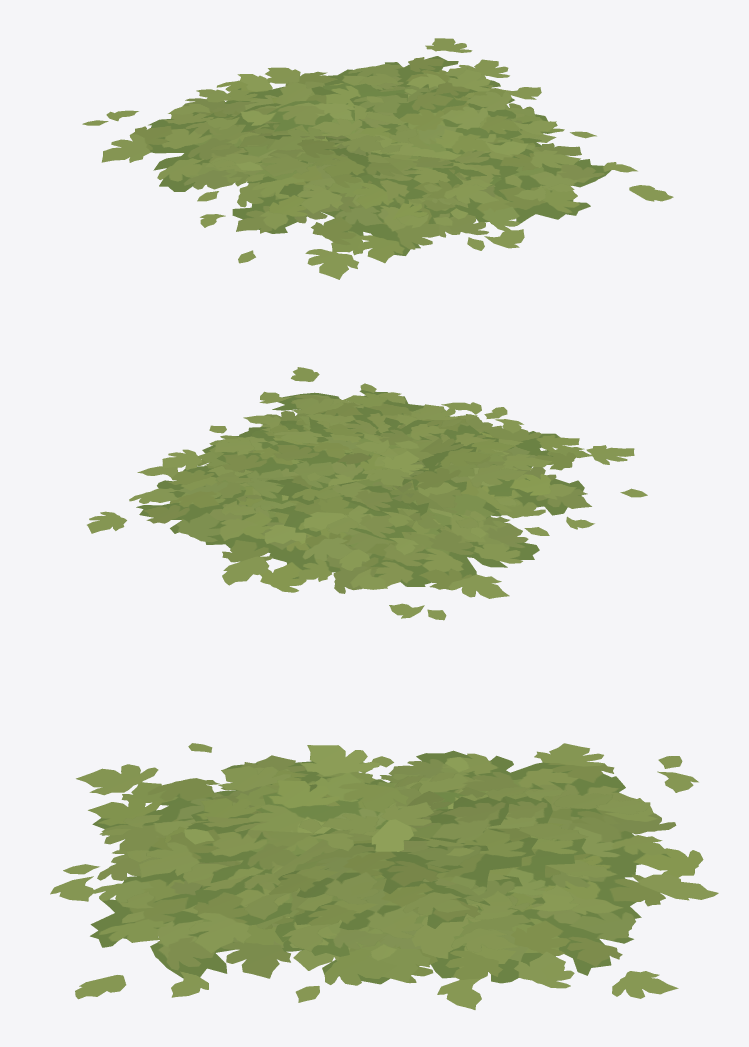
File: SM_Env_Vine_03.fbx
3 renders of one model, top to bottom at view 1: azimuth 30°, elevation 25°; view 2: azimuth 150°, elevation 25°; view 3: azimuth 270°, elevation 25°, orthographic. The views are drawn at different scales.
Visible parts, largest first — view 1: SM_Env_Vine_03; view 2: SM_Env_Vine_03; view 3: SM_Env_Vine_03.
Part boxes in pixels (x1,y1,x2,y2): SM_Env_Vine_03: (82,38,673,279); SM_Env_Vine_03: (87,367,647,620); SM_Env_Vine_03: (50,743,718,1009).
Bounding box in the file's own units: 250 × 25.19 × 253.
